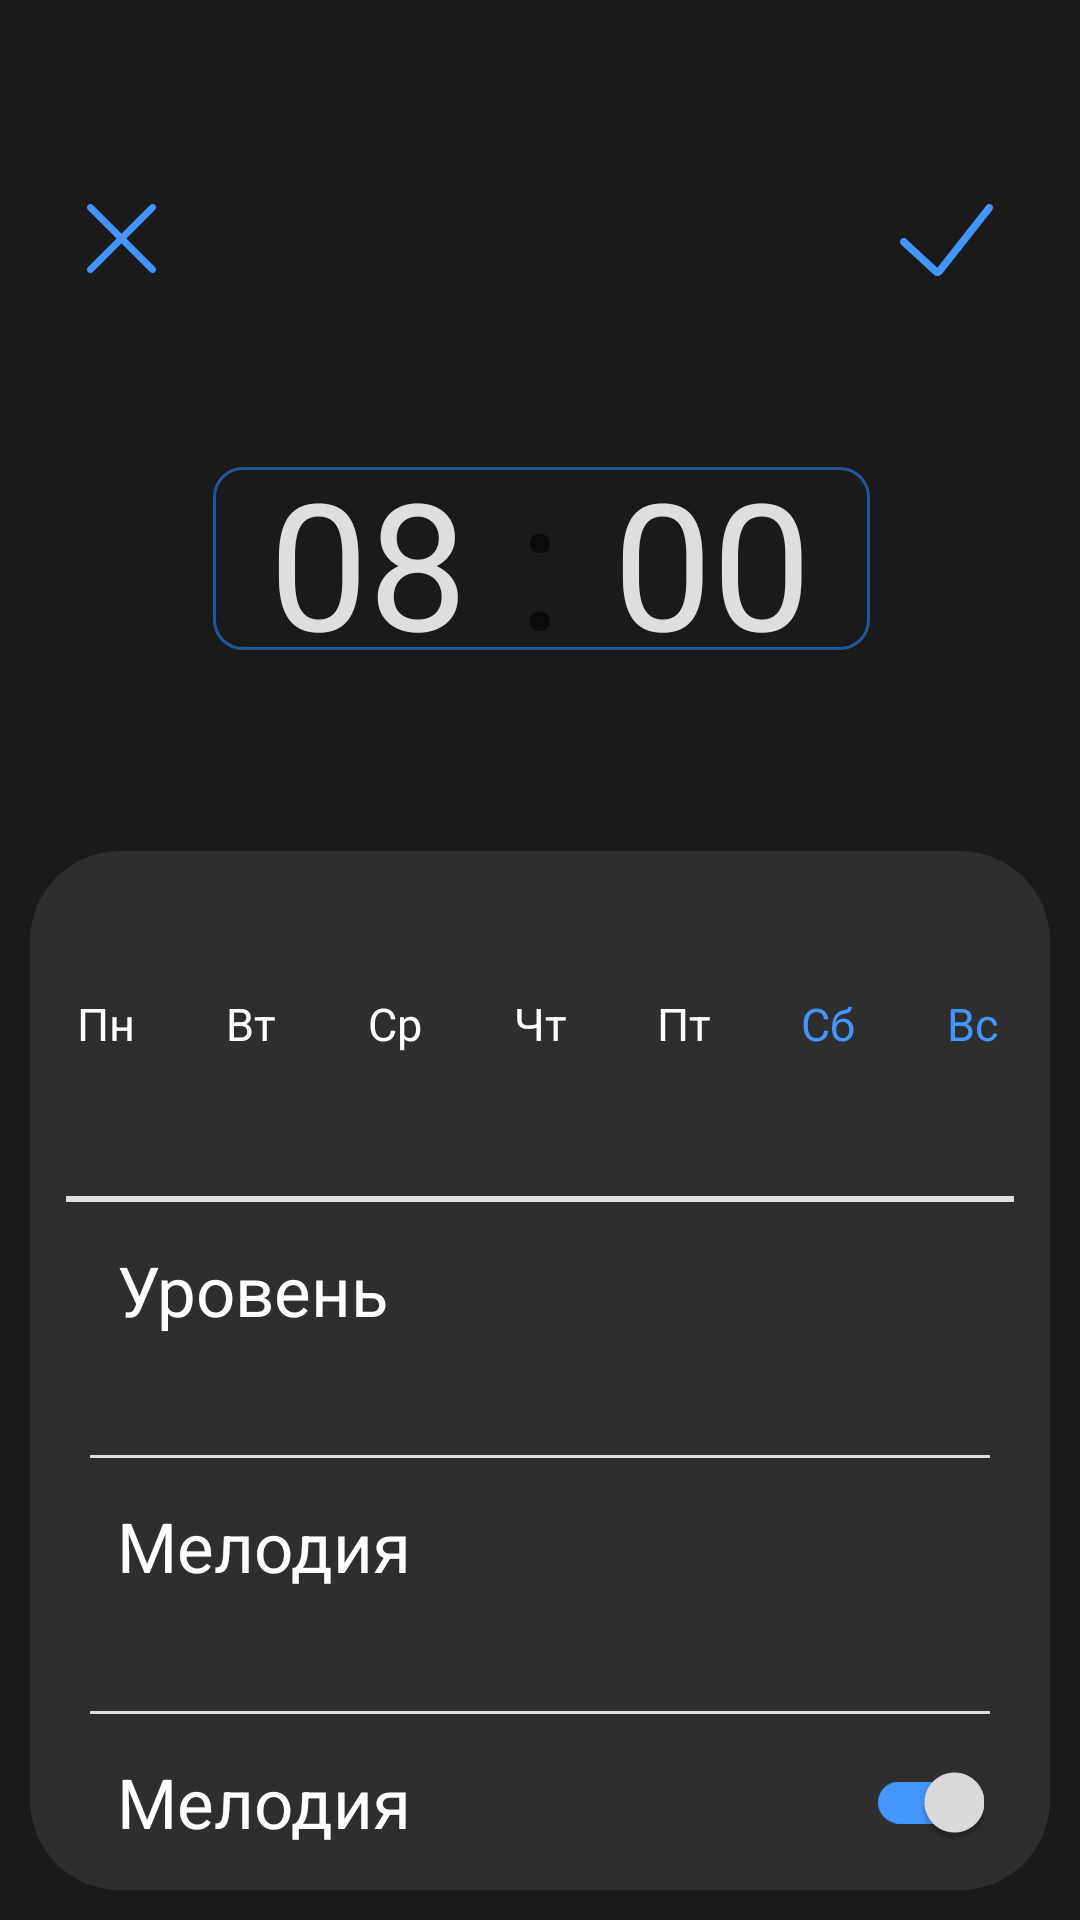

Named icons in this screenshot (1080*1920) and their centers, (x=x, y=y):
отмена: (x=121, y=238)
сохранить: (x=946, y=240)
